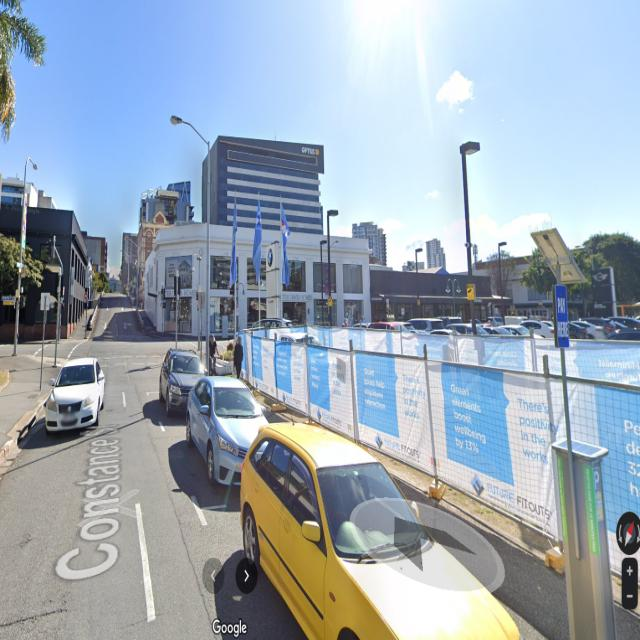light pole: (170, 116, 210, 376), (12, 155, 38, 358), (125, 235, 140, 308), (121, 250, 130, 295)
pole: (461, 152, 476, 336), (498, 243, 505, 325), (327, 211, 332, 325), (415, 250, 420, 318), (320, 242, 323, 324)
steel-pole: (14, 168, 26, 356), (205, 140, 209, 375), (53, 266, 61, 369), (175, 270, 178, 350), (136, 248, 140, 308), (126, 256, 130, 295)
streetlight: (170, 116, 209, 146), (24, 157, 38, 170), (125, 236, 140, 247), (120, 250, 129, 256)
traffic pole: (47, 236, 64, 340), (54, 264, 66, 366), (174, 270, 180, 350)
traffic-light: (46, 235, 56, 259), (174, 274, 181, 298), (61, 299, 66, 318), (54, 301, 58, 317)
